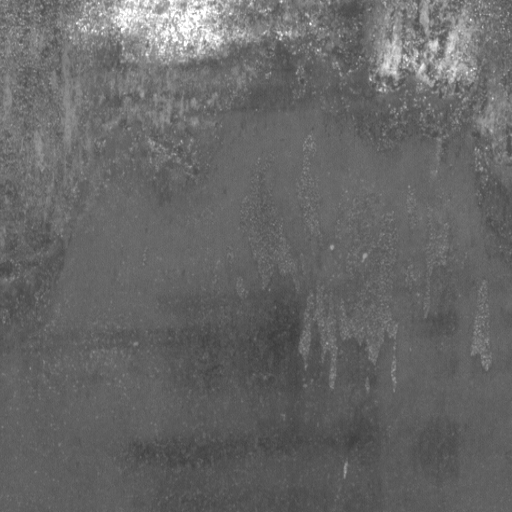xingxingliewen: (240, 134, 496, 392)
